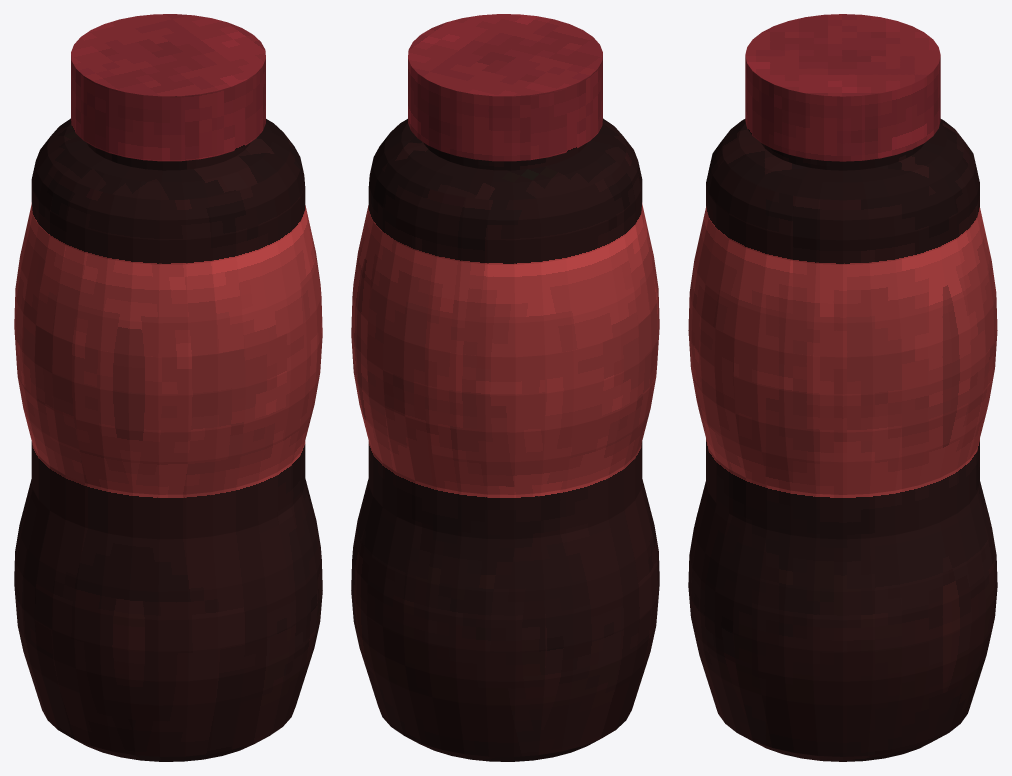
File: Plastic Bottle 02.obj
The picture shows the model from 3 angles, left to right: view 1: azimuth 30°, elevation 25°; view 2: azimuth 150°, elevation 25°; view 3: azimuth 270°, elevation 25°; orthographic projection.
Parts seen in each view (by area): view 1: Bottles.001; view 2: Bottles.001; view 3: Bottles.001.
Part boxes in pixels (x1,y1,x2,y2): Bottles.001: [14, 14, 322, 761]; Bottles.001: [351, 14, 659, 761]; Bottles.001: [688, 14, 997, 761].
Size of the model in its own units: 2.21 by 5.2 by 2.21.
